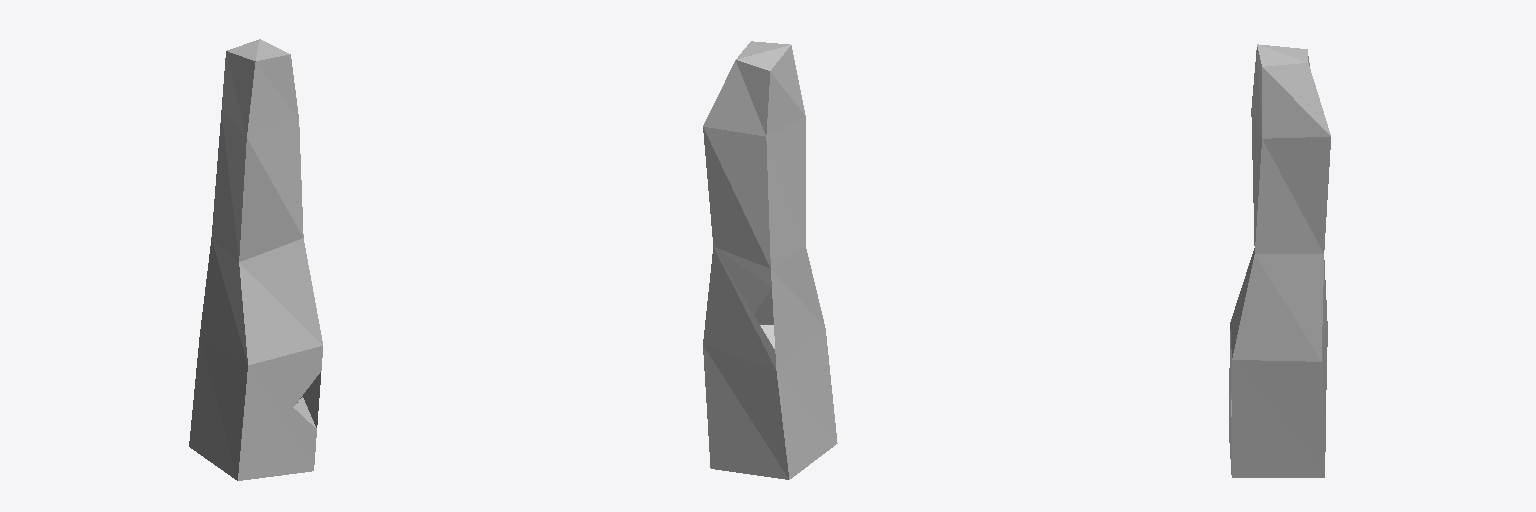
Rendered from Post2.obj.
3 views of the same model, side by side, from view 1: azimuth 30°, elevation 25°; view 2: azimuth 150°, elevation 25°; view 3: azimuth 270°, elevation 25° (orthographic).
Visible parts, largest first — view 1: Bridge_Large_Support_4.001_Cube.008; view 2: Bridge_Large_Support_4.001_Cube.008; view 3: Bridge_Large_Support_4.001_Cube.008.
Boxes of the visible parts, x1,y1,x2,y2 form: Bridge_Large_Support_4.001_Cube.008: [189, 39, 322, 480]; Bridge_Large_Support_4.001_Cube.008: [703, 41, 837, 479]; Bridge_Large_Support_4.001_Cube.008: [1229, 44, 1330, 477].
Bounding box in the file's own units: 1 × 4.44 × 1.